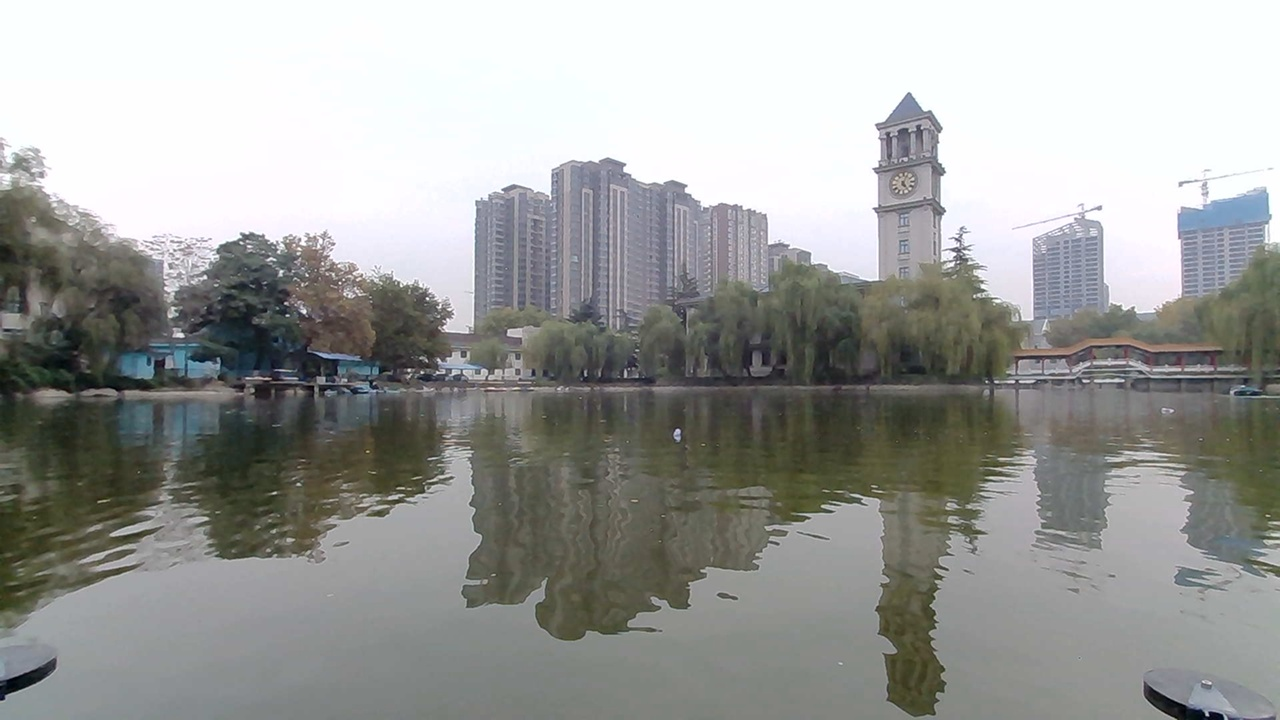bottle: (652, 414, 704, 446), (1151, 400, 1183, 419)
